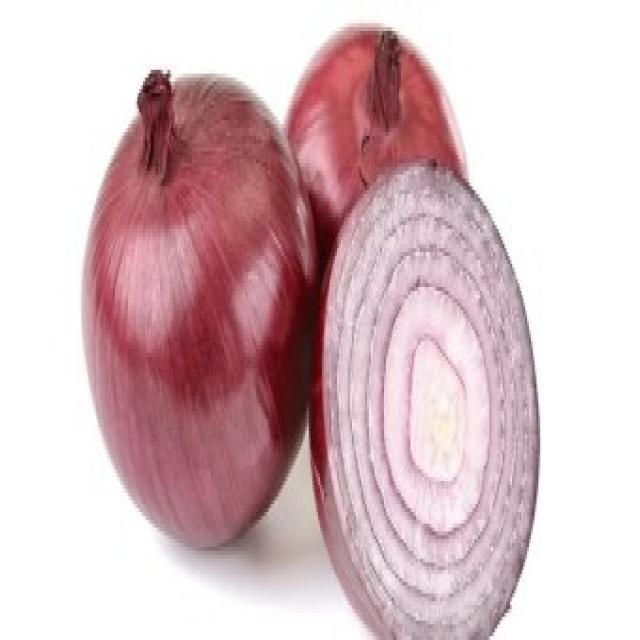onion: (68, 55, 312, 590), (311, 147, 554, 640), (300, 5, 478, 207)
